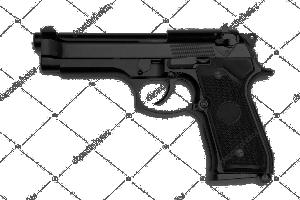handgun: (28, 19, 276, 189)
